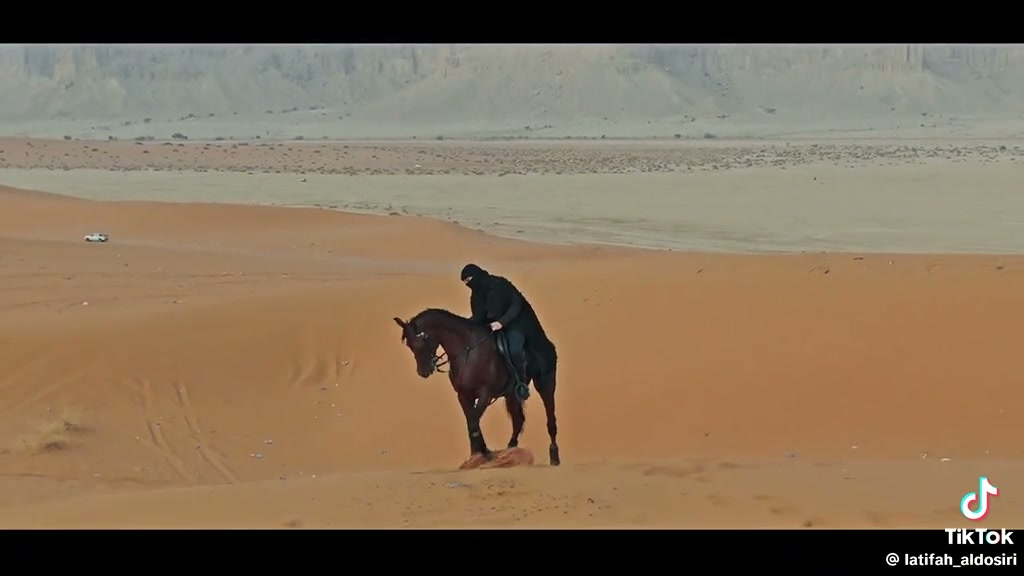animal: (394, 308, 524, 467)
human: (460, 263, 546, 399)
vehicle_track: (93, 360, 254, 483)
